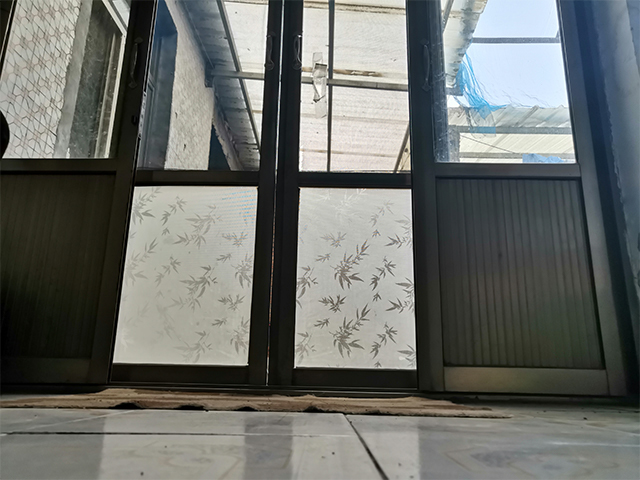carpet: (1, 384, 516, 419)
